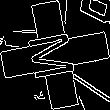M_E: (26, 27, 84, 83)
